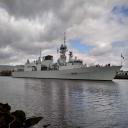Fragata: (12, 32, 124, 81)
